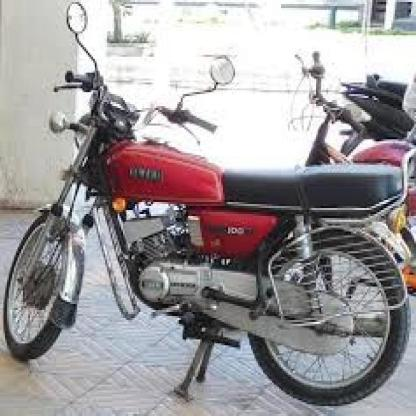bike: (4, 3, 284, 402)
